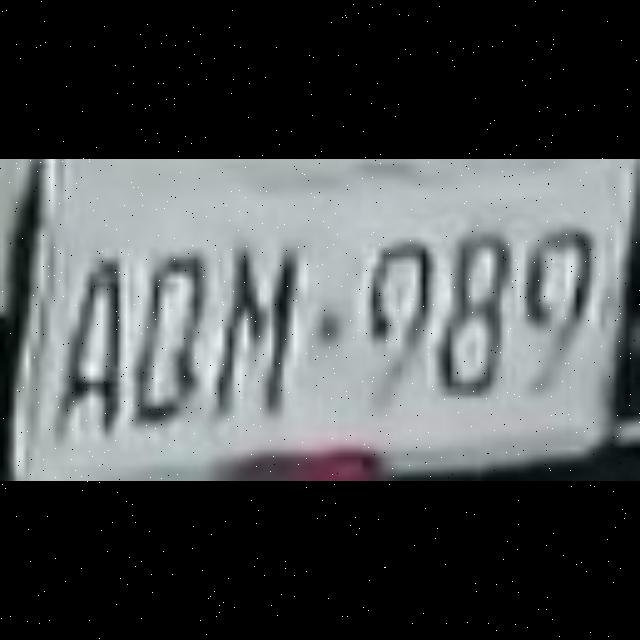8: (442, 238, 520, 408)
9: (364, 238, 444, 408), (522, 238, 600, 408)
A: (50, 238, 128, 408)
M: (207, 238, 286, 408)
Q: (130, 238, 208, 408)
